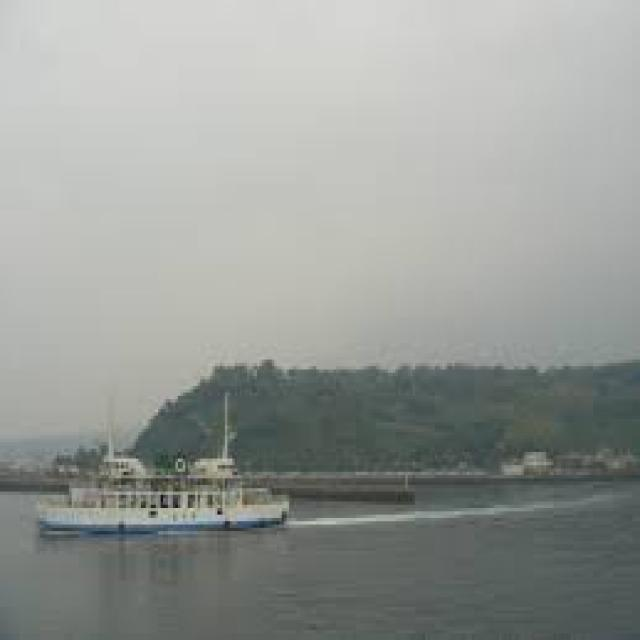houseboat: (42, 442, 282, 552)
